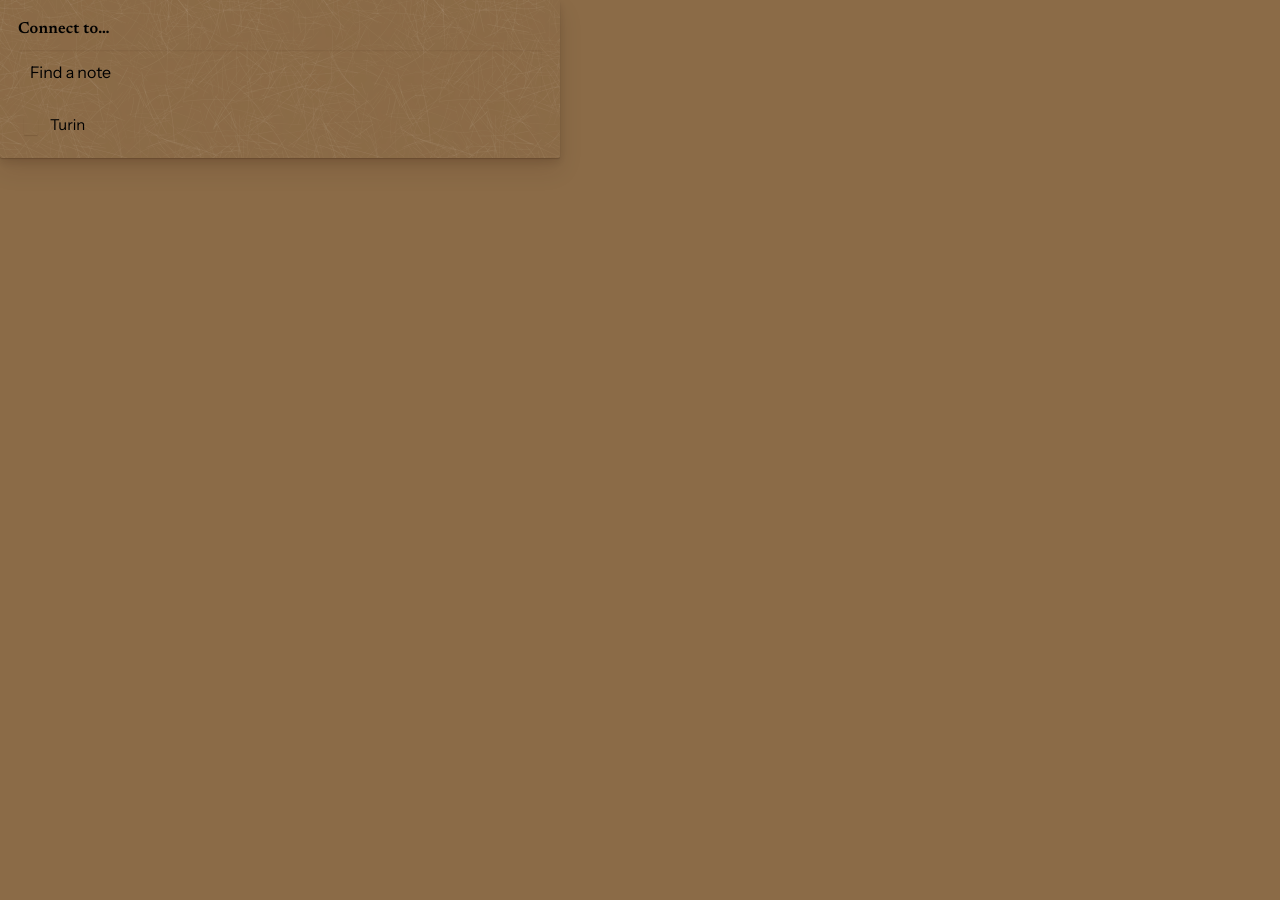
Picker search › says so when nothing matches
Step 1. Type "zzz" into the dropdown → (280, 72), box [18,50,542,94]
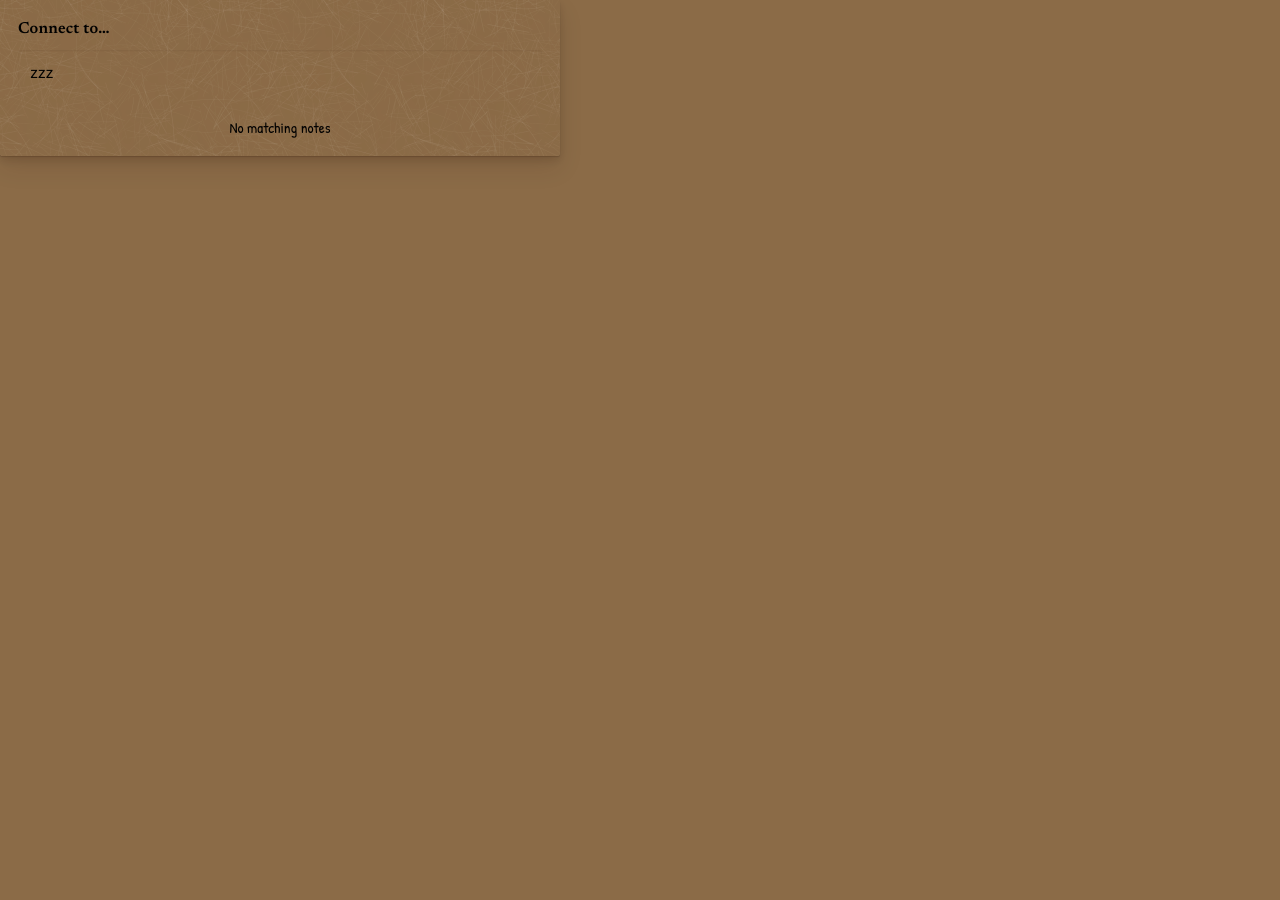
Expected: no options are shown
Expected: the message reads "No matching notes", [230,117,330,138]
